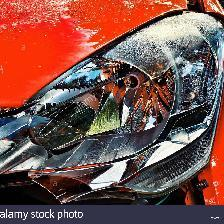broken_part: (68, 65, 223, 177)
